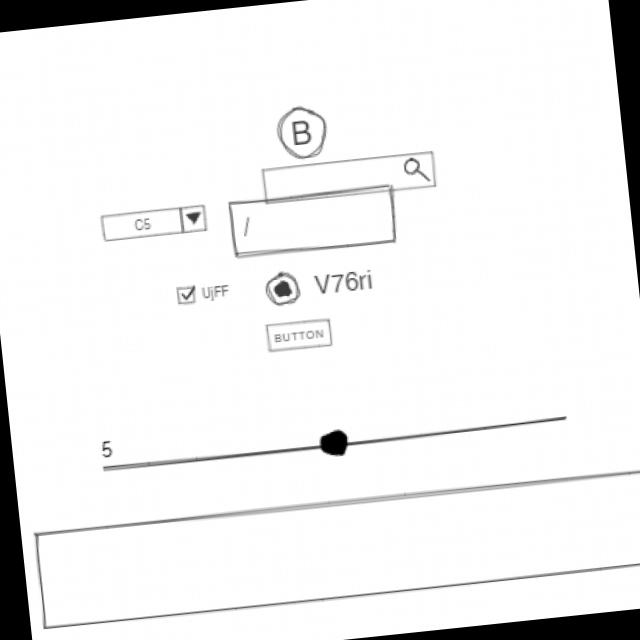button: (263, 316, 337, 356)
checkbox: (174, 280, 234, 307)
container: (29, 462, 640, 633)
icon-button: (273, 102, 332, 165)
input: (227, 182, 404, 263)
radio: (265, 262, 379, 309)
search: (261, 148, 443, 209)
select: (97, 200, 212, 247)
slider: (119, 401, 575, 483)
